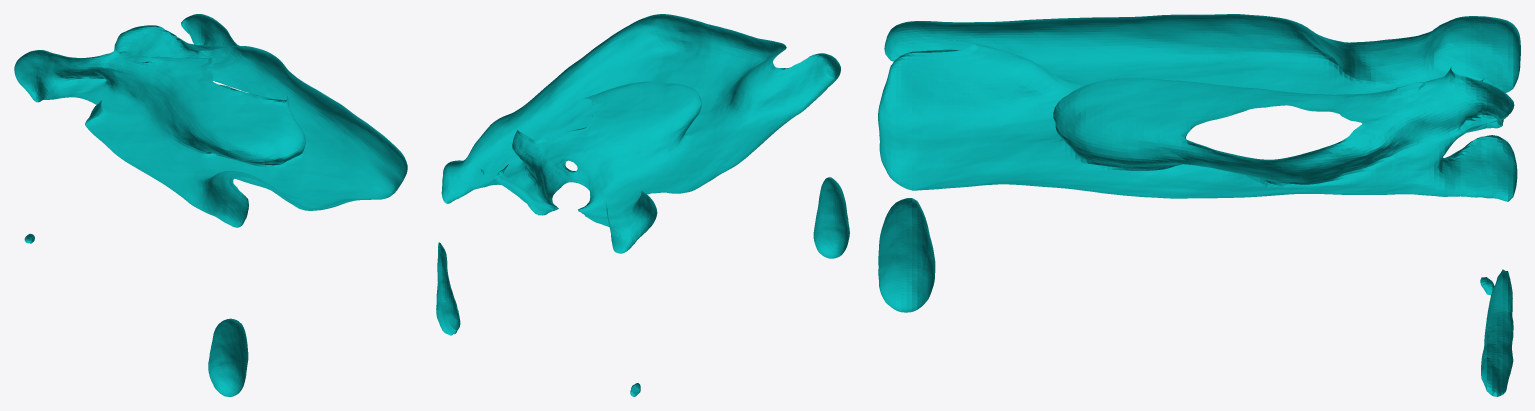
3 views of the same model, side by side, from view 1: azimuth 30°, elevation 25°; view 2: azimuth 150°, elevation 25°; view 3: azimuth 270°, elevation 25° (orthographic). The views are drawn at different scales.
Size of the model in its own units: 0.57 by 0.5223 by 1.03.
